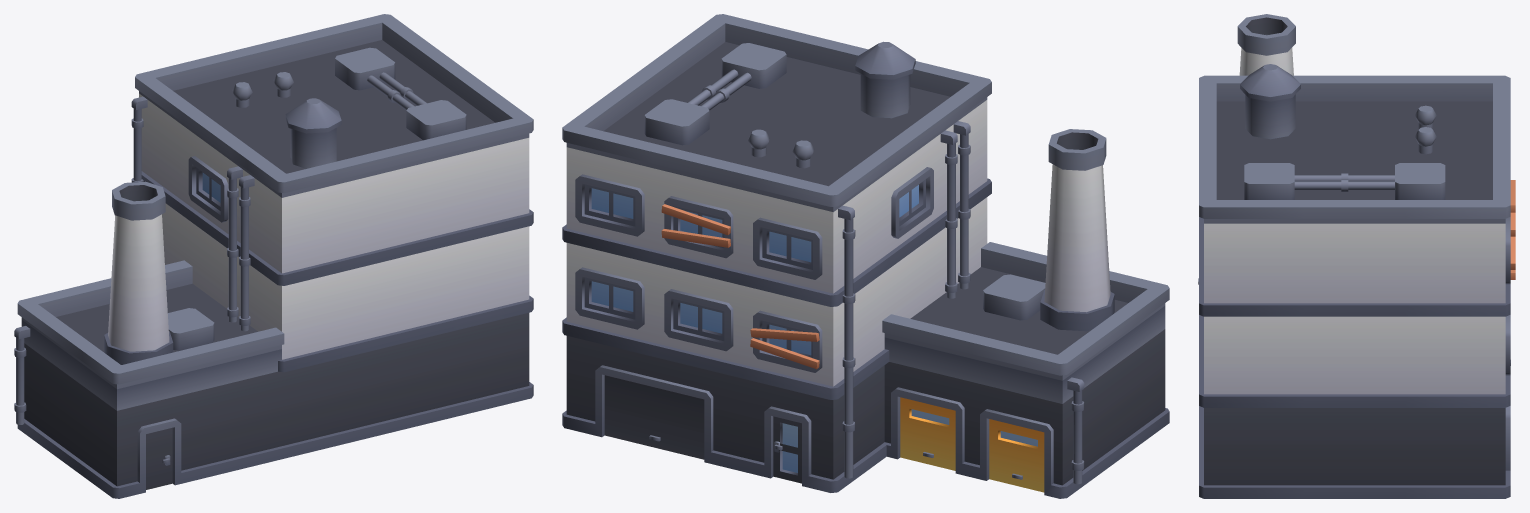
Rendered from kenney-city-industrial-building-b.glb.
The picture shows the model from 3 angles, left to right: view 1: azimuth 30°, elevation 25°; view 2: azimuth 150°, elevation 25°; view 3: azimuth 270°, elevation 25°; orthographic projection. The views are drawn at different scales.
Parts seen in each view (by area): view 1: building-b; view 2: building-b; view 3: building-b.
Part boxes in pixels (box(x1,y1,x2,y2)): building-b: box(14, 14, 533, 498); building-b: box(562, 14, 1169, 498); building-b: box(1198, 14, 1515, 498).
Bounding box in the file's own units: 2.08 × 1.47 × 1.26.
1 material, 1 textured.
